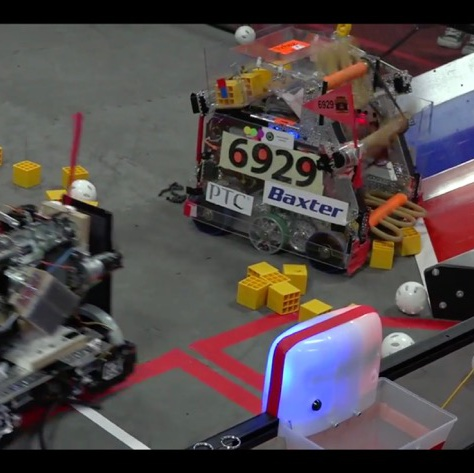robot: (180, 32, 435, 275), (0, 188, 140, 441)
